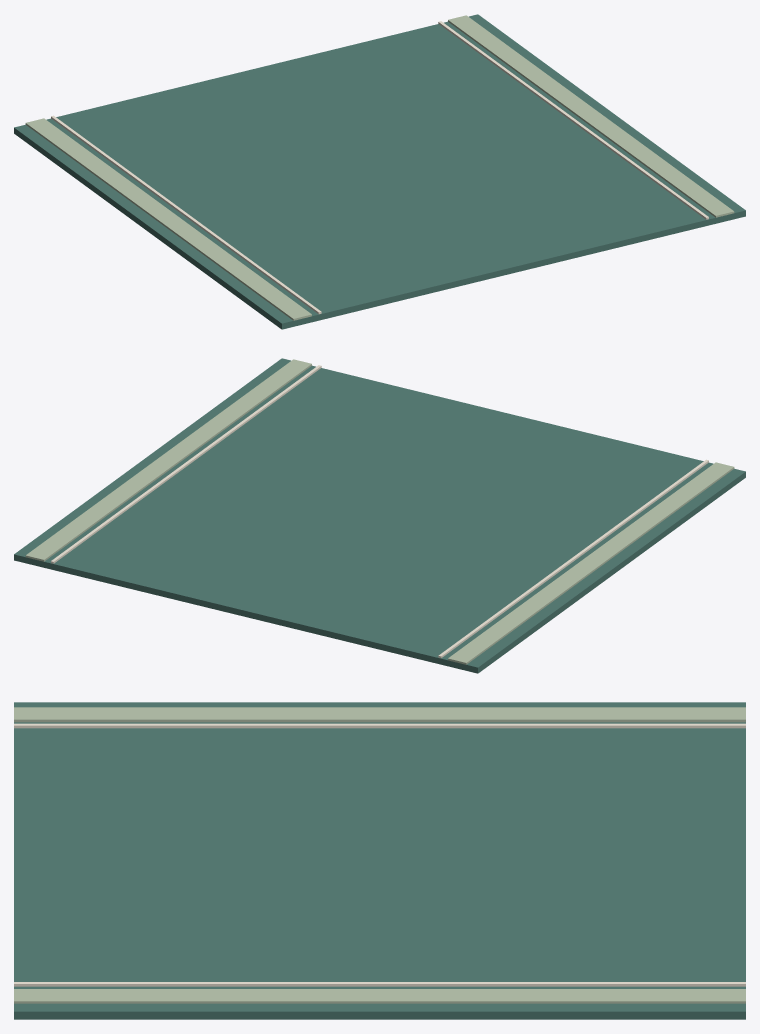
Rendered from upstairs-carpet.glb.
3 renders of one model, top to bottom at view 1: azimuth 30°, elevation 25°; view 2: azimuth 150°, elevation 25°; view 3: azimuth 270°, elevation 25°, orthographic. The views are drawn at different scales.
Parts seen in each view (by area): view 1: upstairs-carpet / Corridor carpet.001, upstairs-carpet / Carpet border.001, upstairs-carpet / Warm linen.004; view 2: upstairs-carpet / Corridor carpet.001, upstairs-carpet / Carpet border.001, upstairs-carpet / Warm linen.004; view 3: upstairs-carpet / Corridor carpet.001, upstairs-carpet / Carpet border.001, upstairs-carpet / Warm linen.004.
Boxes of the visible parts, <box> form: upstairs-carpet / Corridor carpet.001: <box>14,14,745,329</box>; upstairs-carpet / Carpet border.001: <box>25,15,734,320</box>; upstairs-carpet / Warm linen.004: <box>51,21,708,314</box>; upstairs-carpet / Corridor carpet.001: <box>14,358,745,673</box>; upstairs-carpet / Carpet border.001: <box>25,359,734,664</box>; upstairs-carpet / Warm linen.004: <box>51,365,708,658</box>; upstairs-carpet / Corridor carpet.001: <box>14,702,745,1019</box>; upstairs-carpet / Carpet border.001: <box>14,707,745,1003</box>; upstairs-carpet / Warm linen.004: <box>14,723,745,986</box>.
Bounding box in the file's own units: 4 × 0.068 × 4.
